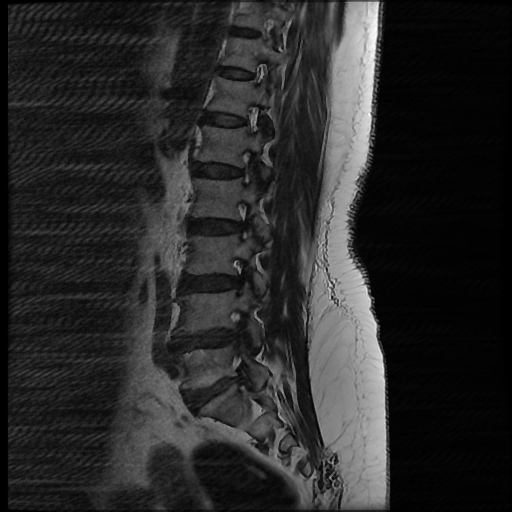LFS1: (225, 191, 254, 246)
